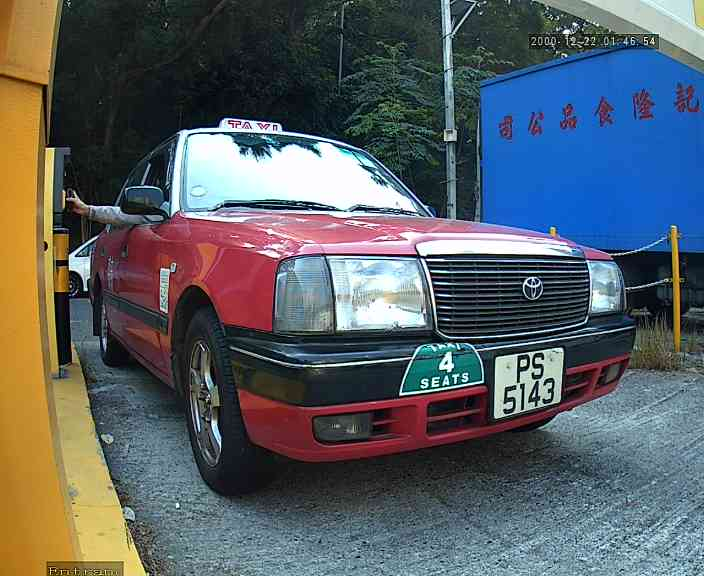taxi: (88, 100, 641, 500)
taxi_mark: (384, 328, 489, 410)
